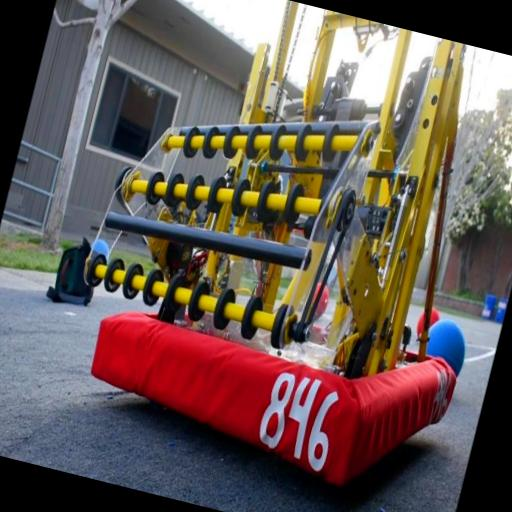robot: (45, 0, 512, 512)
